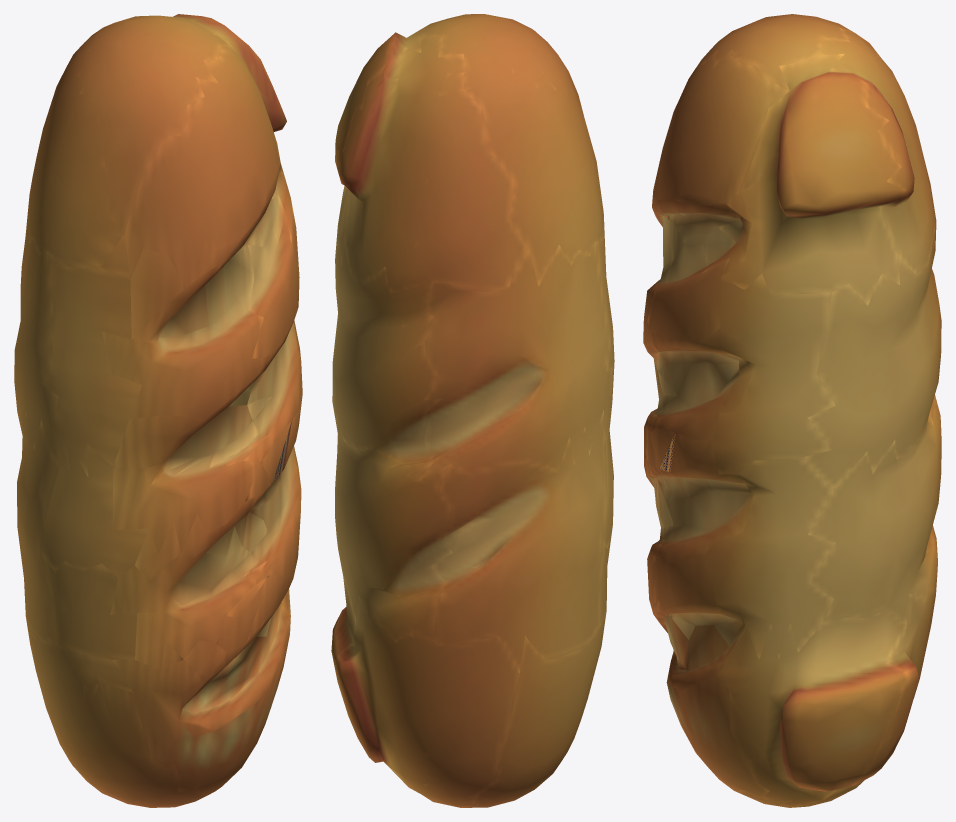
The model's file is 法棍面包.fbx.
The picture shows the model from 3 angles, left to right: view 1: azimuth 30°, elevation 25°; view 2: azimuth 150°, elevation 25°; view 3: azimuth 270°, elevation 25°; orthographic projection.
Visible parts, largest first — view 1: geometry_0.001; view 2: geometry_0.001; view 3: geometry_0.001.
Part boxes in pixels (x1,y1,x2,y2): geometry_0.001: (14,14,302,807); geometry_0.001: (331,14,614,807); geometry_0.001: (643,14,941,807).
Bounding box in the file's own units: 34.51 × 100 × 35.2.
